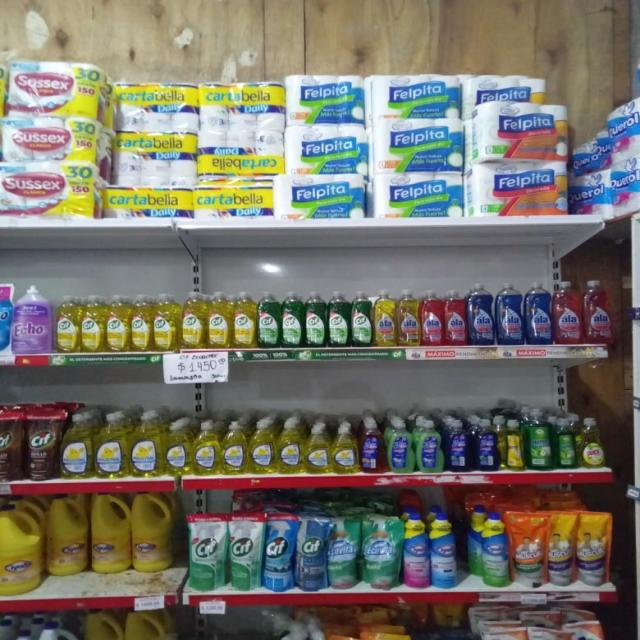ala_conc_amarillo: (397, 289, 420, 347), (374, 289, 396, 347)
ala_conc_azul: (496, 282, 524, 346), (525, 281, 552, 345), (468, 284, 494, 346)
ala_conc_rojo: (584, 280, 614, 345), (553, 280, 582, 346), (444, 288, 467, 346), (421, 290, 443, 346)
cif_conc_bot_amarilla: (153, 293, 179, 352), (55, 295, 80, 354), (181, 291, 206, 350), (106, 294, 130, 353), (81, 294, 105, 353), (208, 292, 232, 349), (232, 292, 256, 348), (131, 294, 152, 352)
cif_conc_botella_verde: (350, 290, 372, 348), (304, 291, 326, 348), (281, 291, 303, 348), (258, 292, 280, 348), (328, 291, 349, 348)
magistral_con_amarillo: (95, 411, 128, 479), (129, 410, 162, 478), (60, 412, 93, 479), (164, 418, 191, 476), (193, 420, 220, 476), (248, 419, 275, 475), (221, 420, 248, 475), (276, 419, 302, 475), (331, 422, 358, 475), (304, 423, 330, 474)
zorro: (386, 417, 414, 474), (415, 418, 443, 474), (445, 418, 472, 472), (360, 418, 384, 474)
